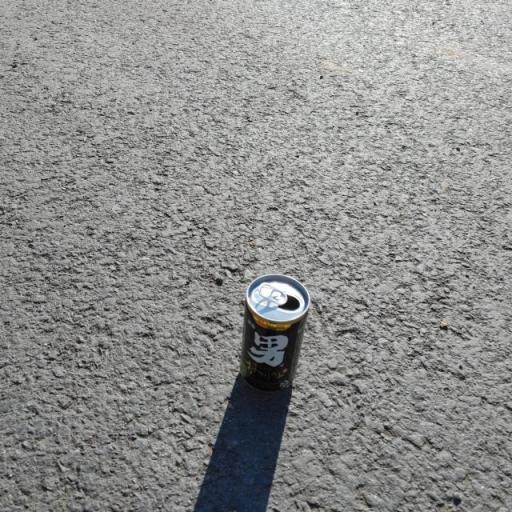metal: (230, 262, 315, 394)
